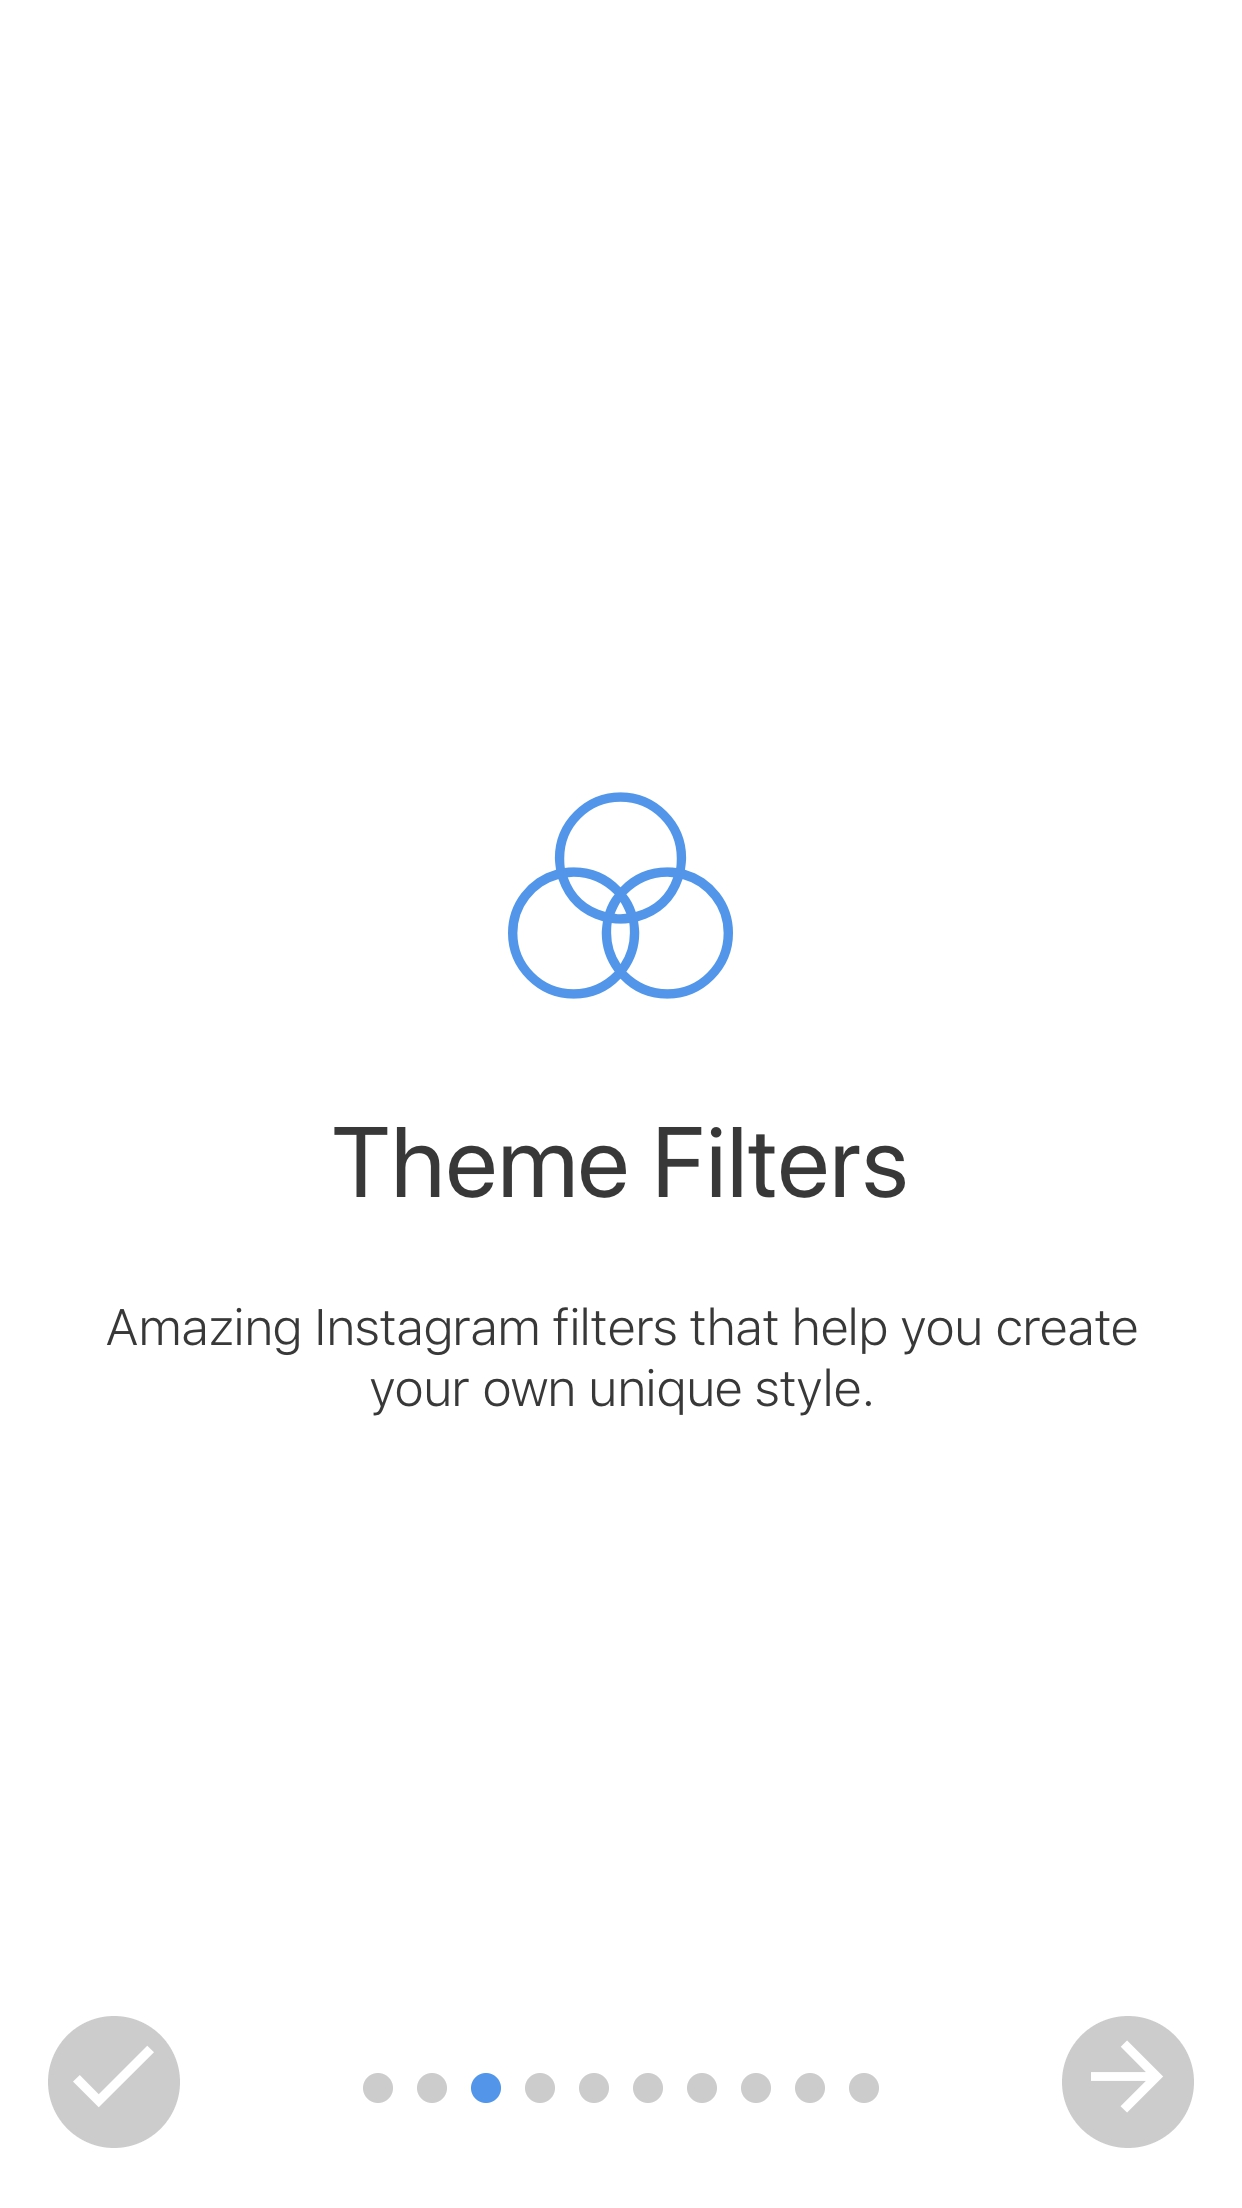Icon: (1062, 2015, 1193, 2147), (49, 2015, 180, 2147)
Image: (508, 792, 732, 999)
PageIndicator: (362, 2072, 880, 2103)
Text: (108, 1307, 1137, 1416), (334, 1127, 905, 1198)
